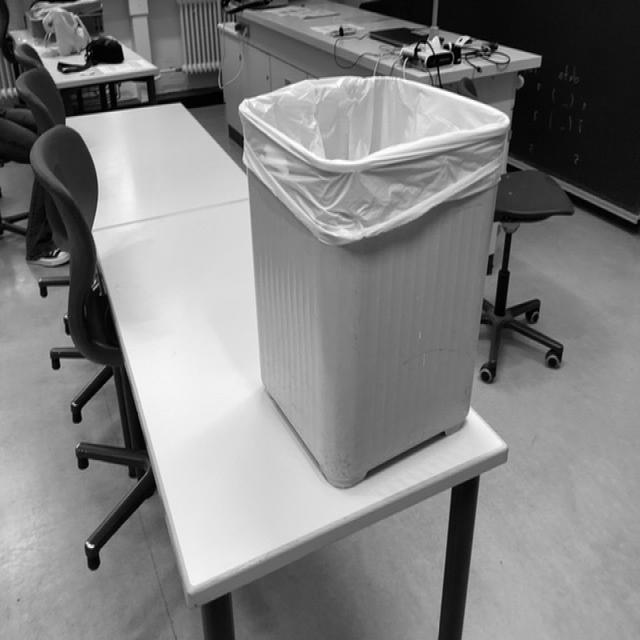garbage container: (229, 41, 537, 507)
